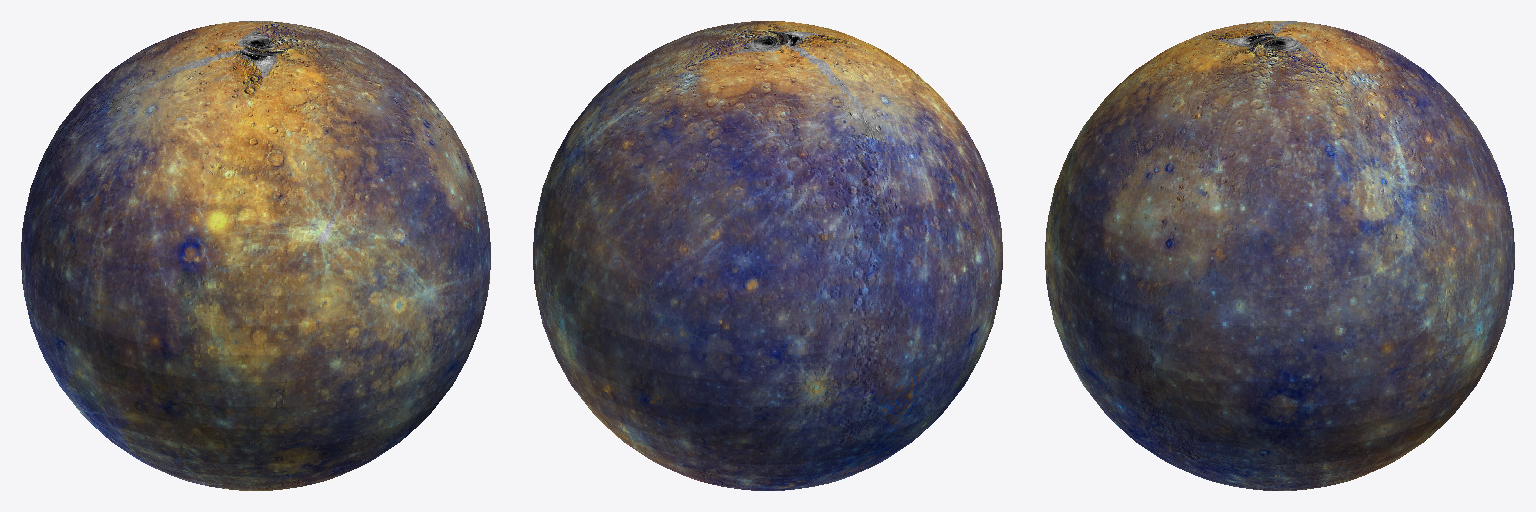
The picture shows the model from 3 angles: view 1: azimuth 30°, elevation 25°; view 2: azimuth 150°, elevation 25°; view 3: azimuth 270°, elevation 25°; orthographic projection.
Visible parts, largest first — view 1: Mercury_ID52; view 2: Mercury_ID52; view 3: Mercury_ID52.
Part boxes in pixels (bbox=[...]): Mercury_ID52: bbox=[21, 21, 490, 490]; Mercury_ID52: bbox=[533, 21, 1002, 490]; Mercury_ID52: bbox=[1045, 21, 1514, 490].
Size of the model in its own units: 0.488 by 0.488 by 0.488.
1 materials, 1 textured.